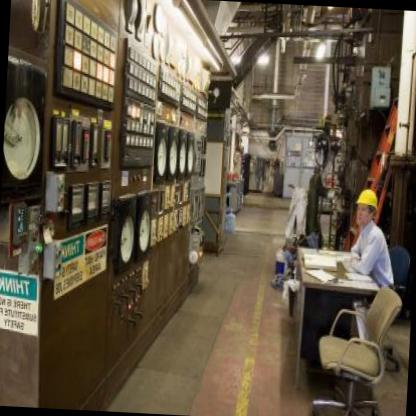helmet: (352, 184, 380, 230)
